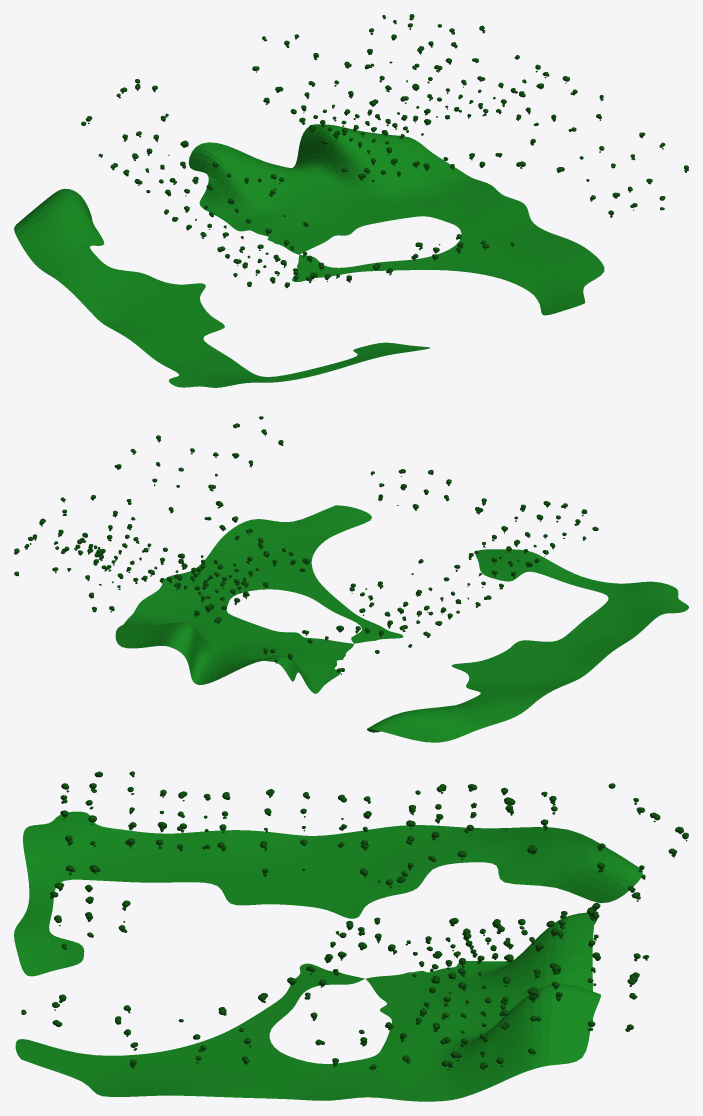
File: trees_test.fbx
3 views of the same model, one above another, from view 1: azimuth 30°, elevation 25°; view 2: azimuth 150°, elevation 25°; view 3: azimuth 270°, elevation 25° (orthographic). The views are drawn at different scales.
Visible parts, largest first — view 1: Plane.002; view 2: Plane.002; view 3: Plane.002.
Boxes of the visible parts, x1,y1,x2,y2 form: Plane.002: [14, 124, 604, 387]; Plane.002: [115, 505, 688, 742]; Plane.002: [14, 811, 642, 1101].
Bounding box in the file's own units: 3074 × 705 × 2537.
